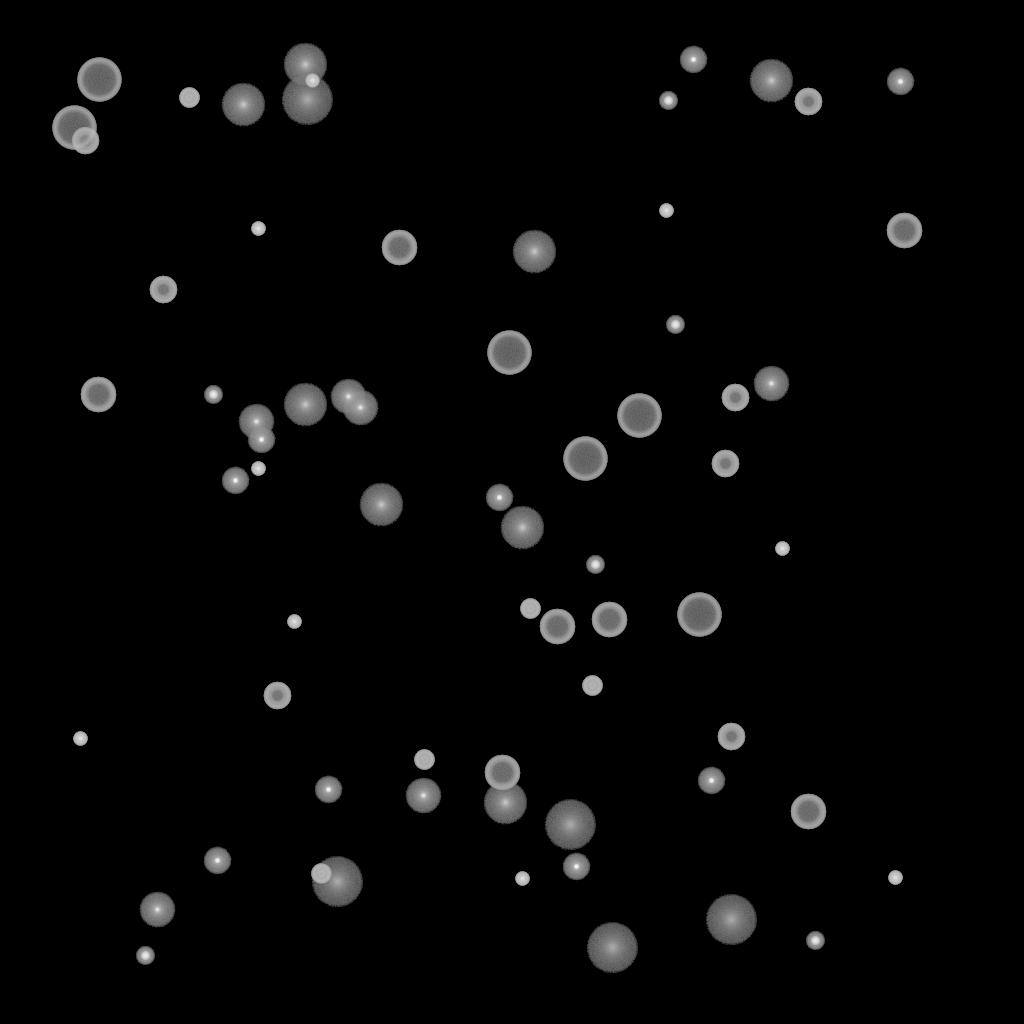depth:-10: (562, 853, 590, 881), (697, 767, 725, 795), (247, 426, 275, 454), (203, 847, 231, 875), (485, 484, 513, 512), (679, 46, 707, 74), (314, 776, 342, 804), (886, 68, 914, 96), (221, 467, 249, 495)
depth:-20: (659, 92, 677, 110), (806, 932, 824, 950), (136, 947, 154, 965), (586, 556, 604, 574), (666, 316, 684, 334), (204, 386, 222, 404)
depth:-30: (515, 872, 529, 886), (659, 204, 673, 218), (775, 542, 789, 556), (251, 462, 265, 476), (888, 871, 902, 885), (251, 222, 265, 236), (73, 732, 87, 746), (287, 615, 301, 629), (305, 74, 319, 88)
depth:-40: (414, 750, 434, 770), (311, 864, 331, 884), (179, 88, 199, 108), (582, 676, 602, 696), (520, 599, 540, 619)
depth:-50: (149, 276, 177, 304), (721, 384, 749, 412), (71, 127, 99, 155), (263, 682, 291, 710), (711, 450, 739, 478), (794, 88, 822, 116), (717, 723, 745, 751)
depth:-60: (539, 609, 575, 645), (381, 230, 417, 266), (886, 213, 922, 249), (790, 794, 826, 830), (484, 755, 520, 791), (591, 602, 627, 638), (80, 377, 116, 413)
depth:-70: (487, 331, 531, 375), (677, 593, 721, 637), (52, 106, 96, 150), (563, 437, 607, 481), (617, 394, 661, 438), (77, 58, 121, 102)
depth:0: (330, 379, 366, 415), (139, 892, 175, 928), (342, 390, 378, 426), (753, 366, 789, 402), (238, 404, 274, 440), (405, 778, 441, 814)
depth:10: (359, 483, 403, 527), (283, 43, 327, 87), (283, 383, 327, 427), (483, 781, 527, 825), (221, 83, 265, 127), (512, 230, 556, 274), (749, 59, 793, 103), (500, 506, 544, 550)
depth:20: (705, 895, 757, 945), (586, 923, 638, 973), (311, 857, 363, 907), (544, 800, 596, 850), (281, 75, 333, 125)
